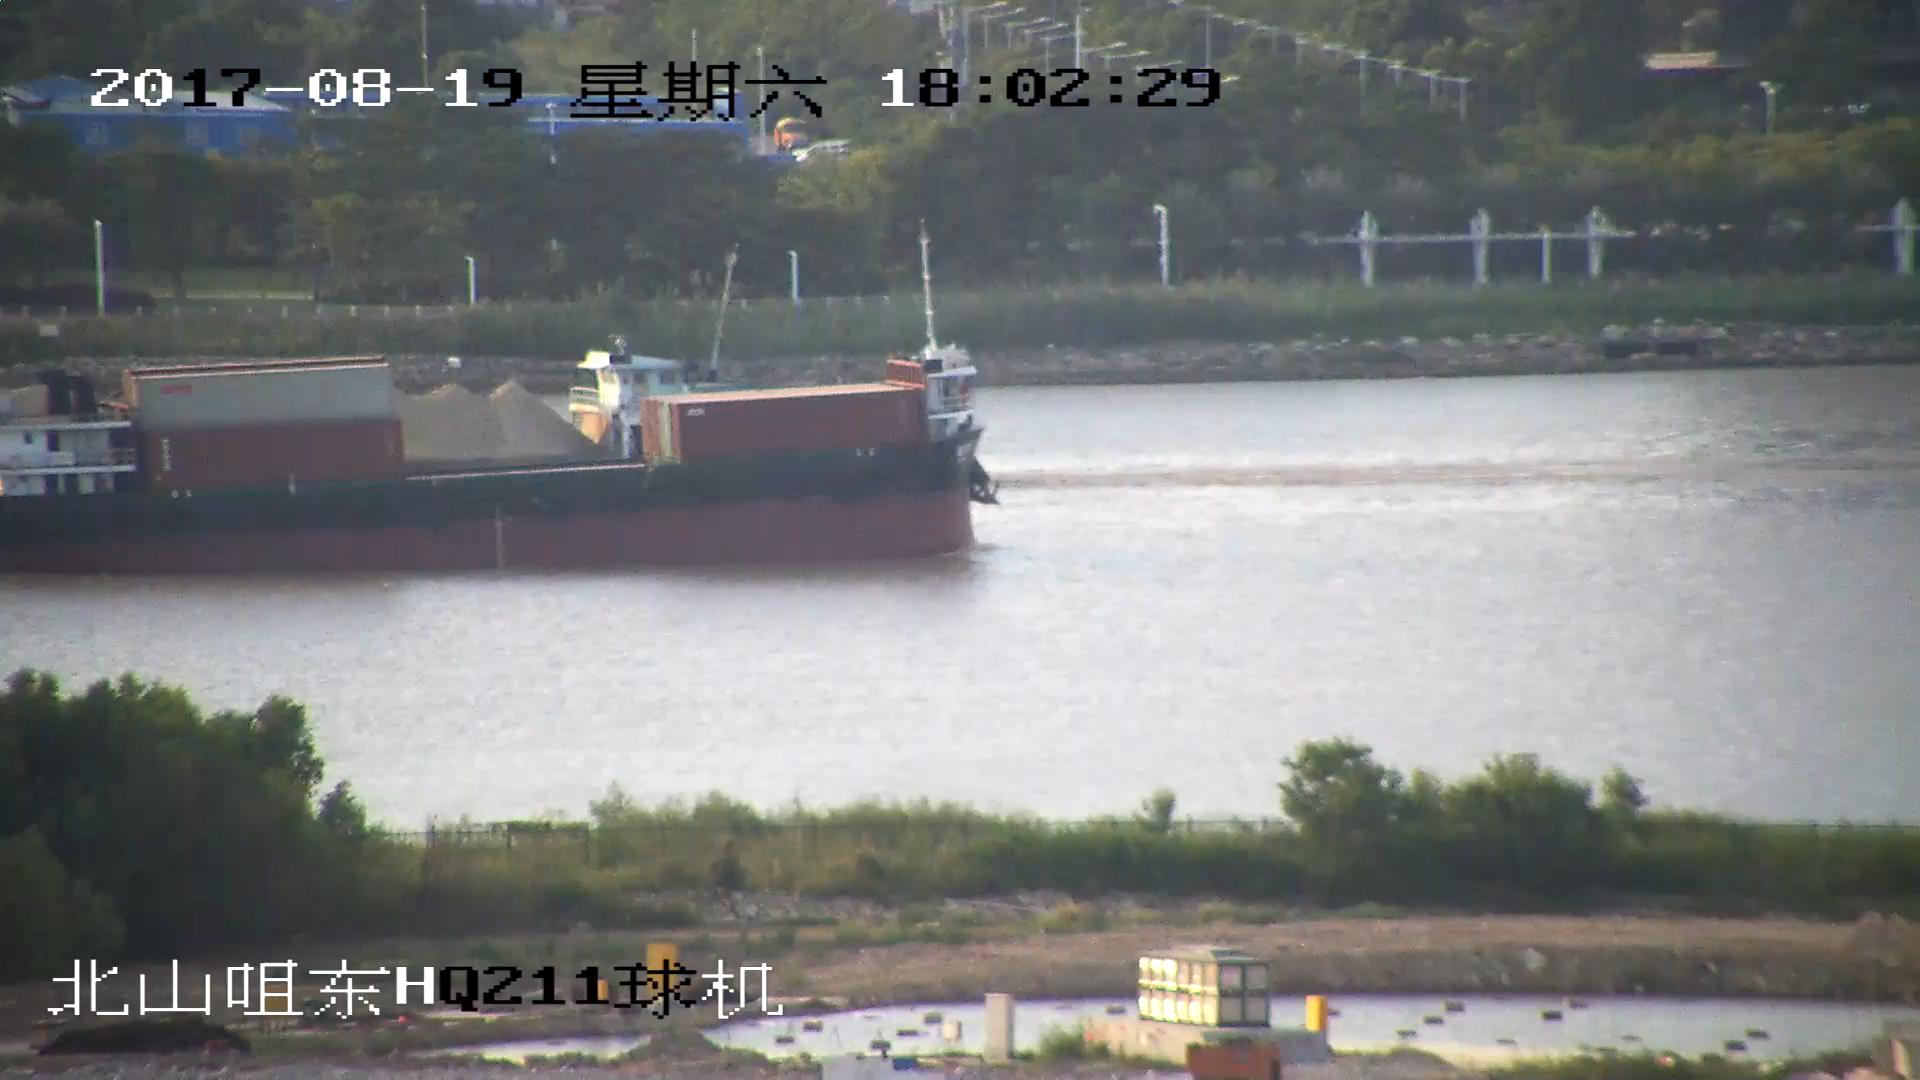container ship: (1, 334, 991, 571)
